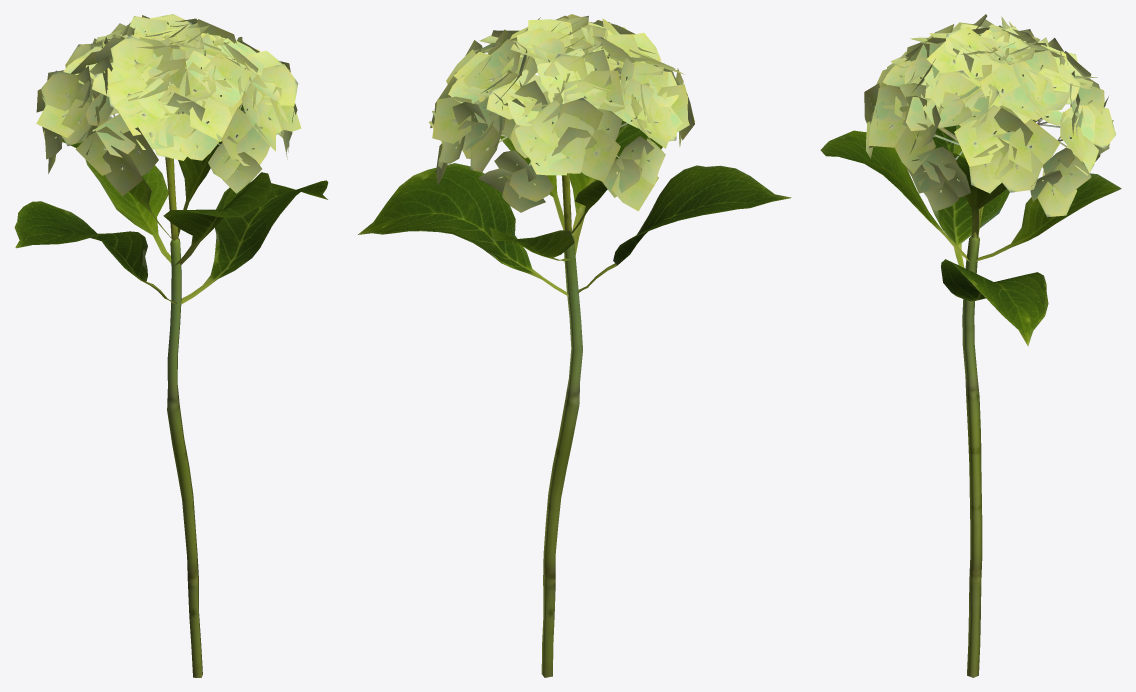
File: Hydrangea_OG_normal_greenyellow.glb
3 views of the same model, side by side, from view 1: azimuth 30°, elevation 25°; view 2: azimuth 150°, elevation 25°; view 3: azimuth 270°, elevation 25° (orthographic). The views are drawn at different scales.
Parts seen in each view (by area): view 1: Hydrangea; view 2: Hydrangea; view 3: Hydrangea.
Part boxes in pixels (x1,y1,x2,y2): Hydrangea: [14, 14, 328, 677]; Hydrangea: [358, 14, 791, 677]; Hydrangea: [820, 14, 1121, 677].
Bounding box in the file's own units: 1.38 × 2.31 × 1.
1 material, 1 textured.
